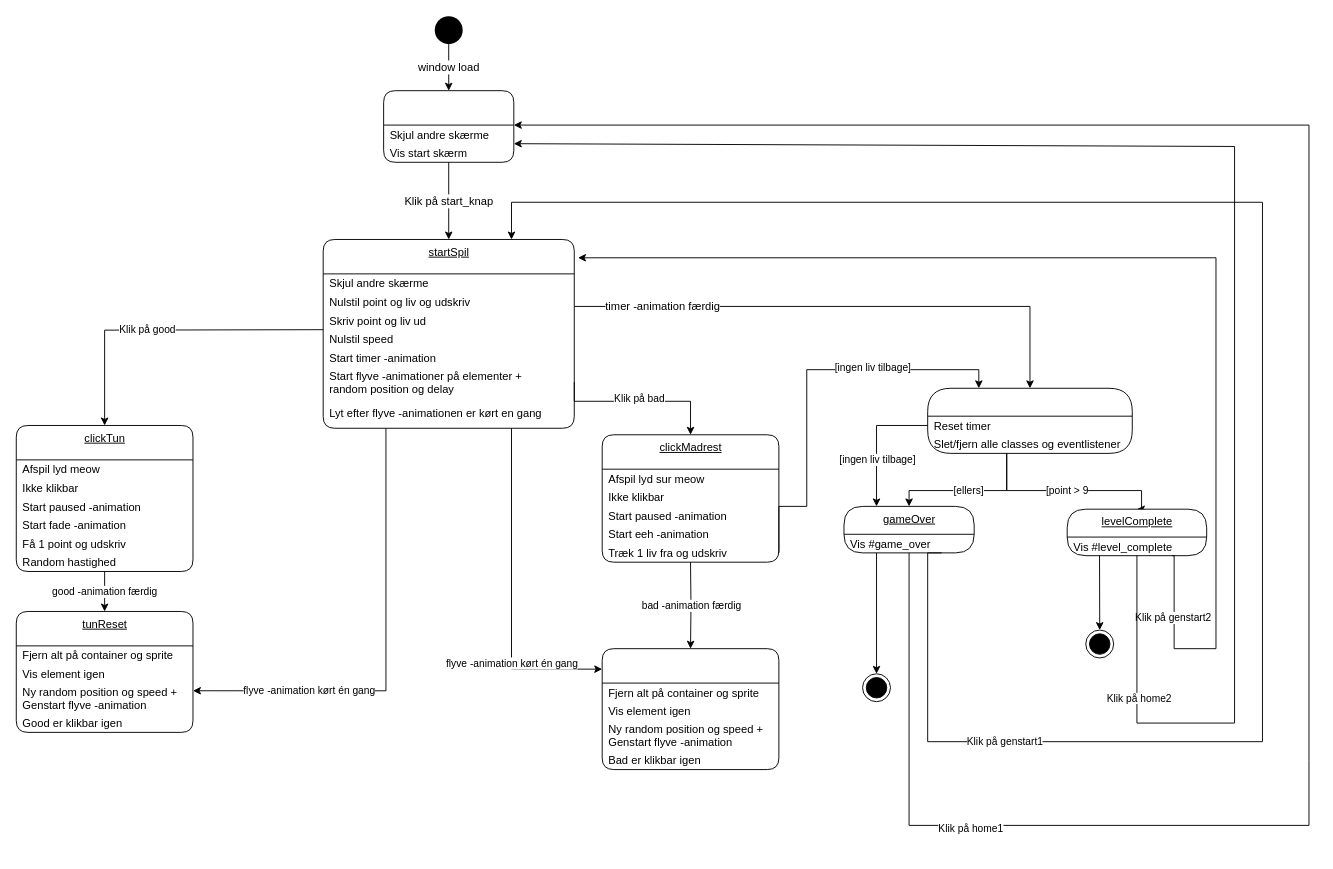
Some shapes in this 1333 by 869 pixel diagram are drawn without their labels. Here are the shapes that lost their labels. From the top down, the box of each, then its label:
(383, 90, 514, 162): sidenVises
(927, 387, 1132, 453): stopSpil
(601, 648, 779, 770): madrestReset
